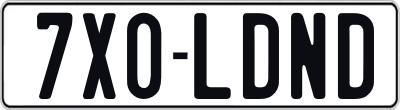0: (124, 10, 161, 100)
7: (36, 13, 73, 99)
D: (336, 11, 377, 101), (243, 10, 282, 101)
L: (194, 11, 237, 103)
N: (290, 11, 324, 103)
X: (82, 11, 118, 99)
